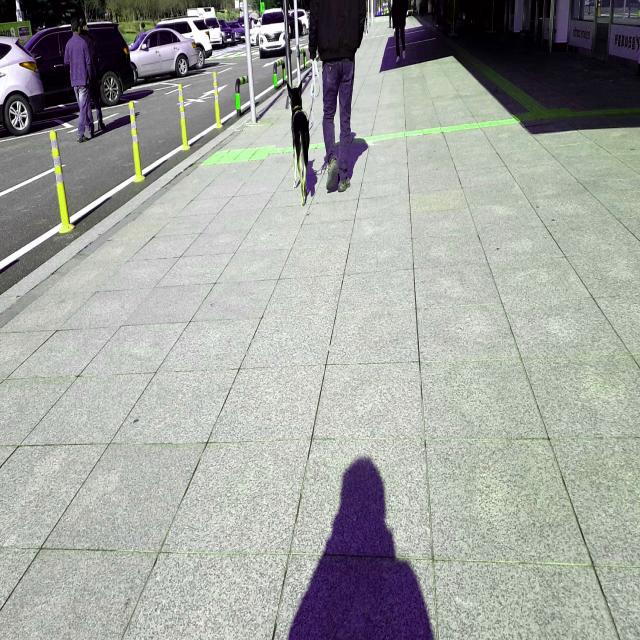Leashed_Dog: (286, 57, 339, 206)
